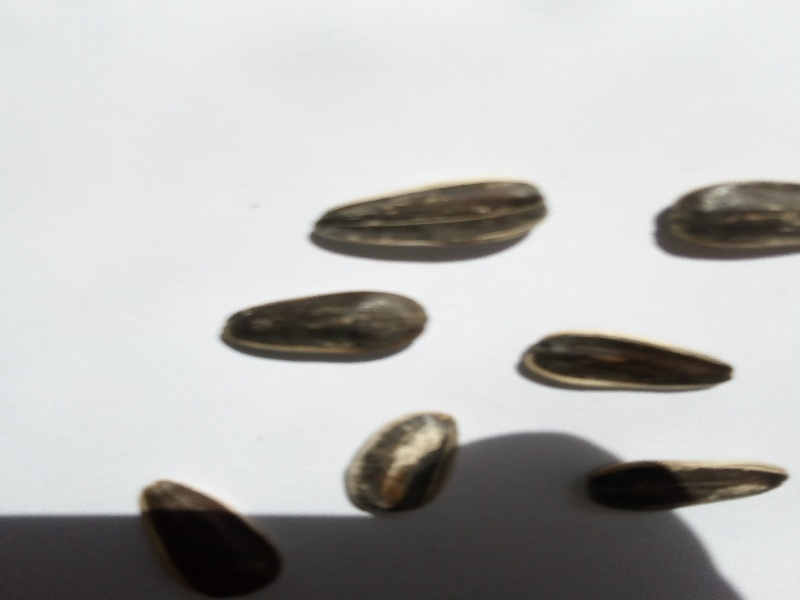girasol: (302, 165, 560, 263), (512, 317, 739, 413), (131, 468, 293, 600), (575, 439, 800, 531), (214, 278, 433, 371), (343, 398, 464, 532)
